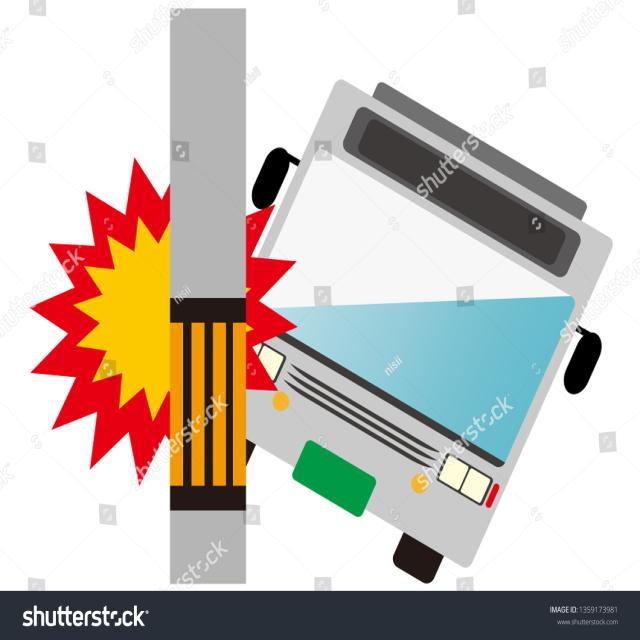Accident: (139, 72, 616, 577)
